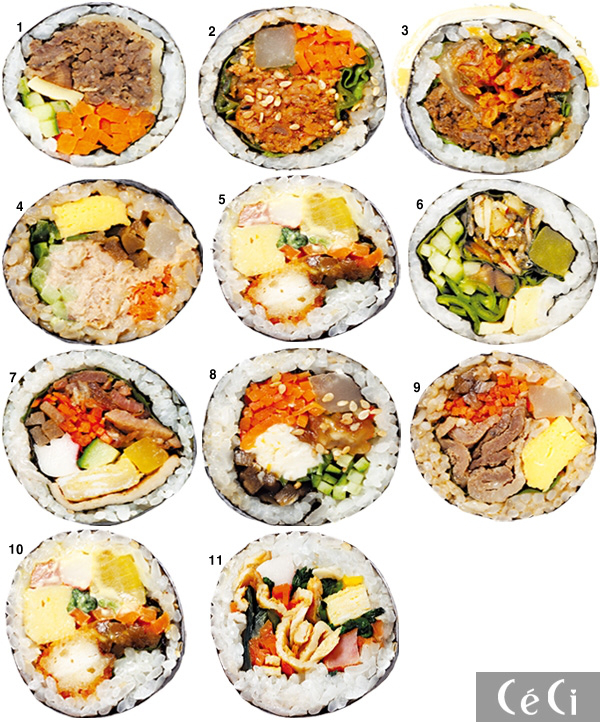gimbab: (199, 528, 409, 722), (0, 526, 197, 722), (199, 344, 403, 527), (0, 346, 198, 526), (393, 2, 598, 175), (401, 175, 600, 351), (2, 175, 204, 346), (404, 351, 600, 526), (193, 4, 393, 170), (208, 173, 402, 344), (0, 0, 193, 168)
